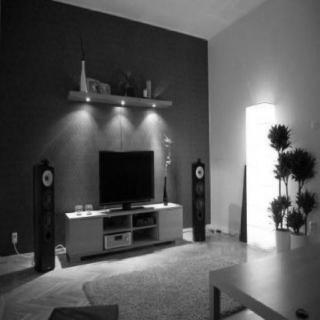other: (238, 99, 284, 253)
